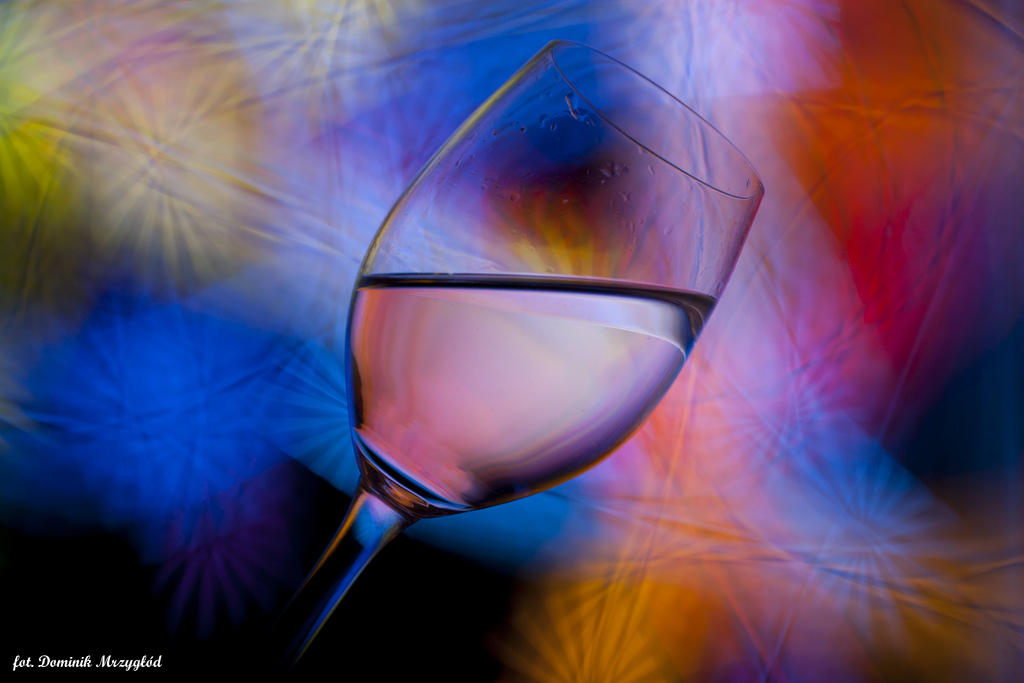glass of water: (265, 20, 776, 639)
